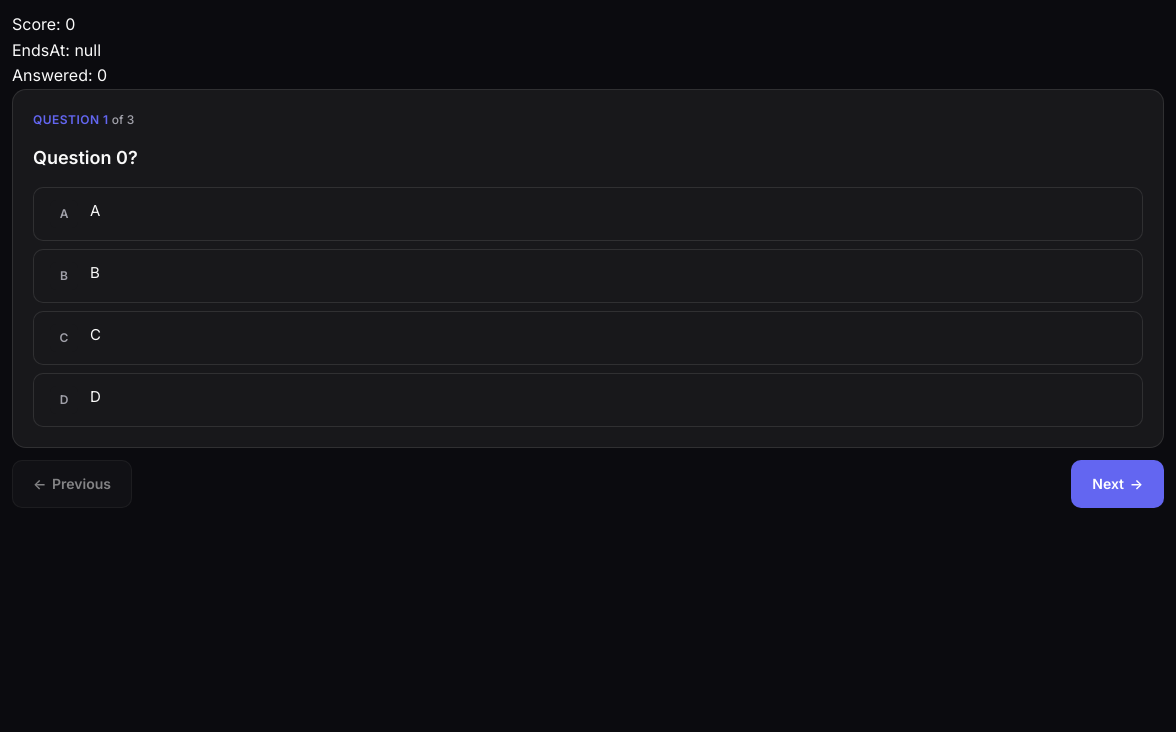
it: useQuiz › loads a paper and answers a question
Check: the element showing "A A B B C C D D" is shown, box [33,187,1143,427]
Click the radio button labelled "B B": (64, 276) [33,249,1143,303]
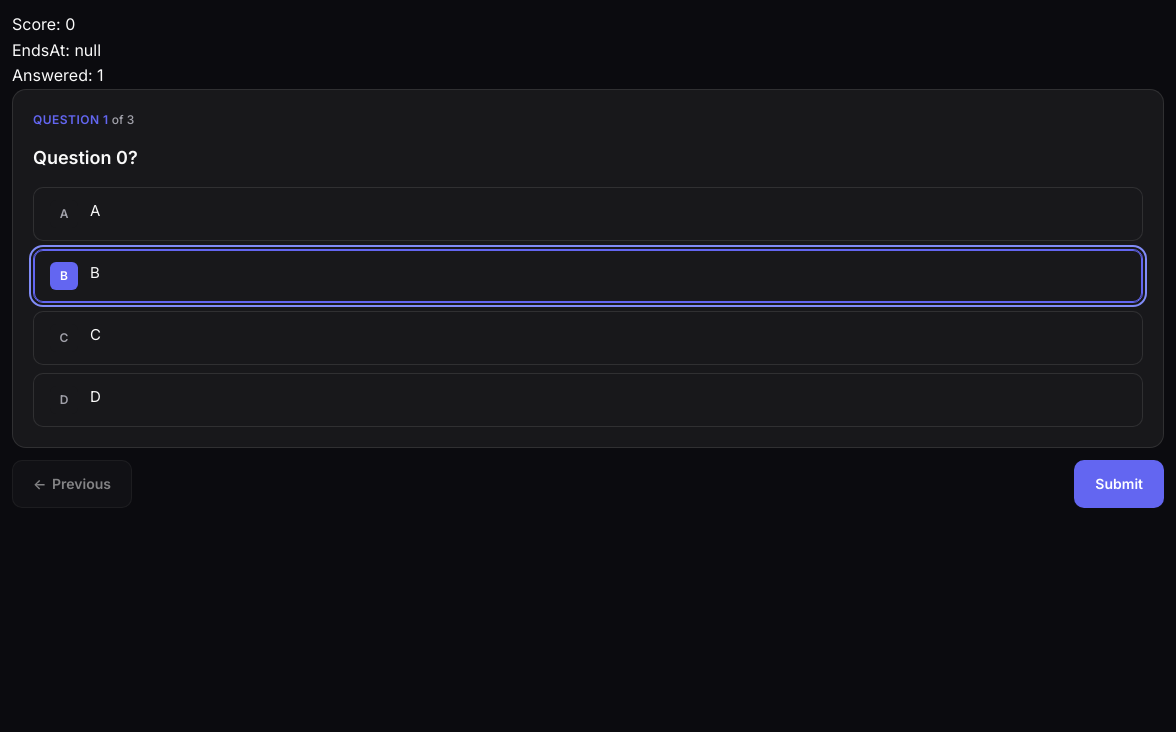
Check: the radio button labelled "B B" is checked, box [33,249,1143,303]
Check: the text "Answered: 1" is shown, box [12,65,104,85]
Click the button "Submit": (1119, 484) [1074,460,1164,508]
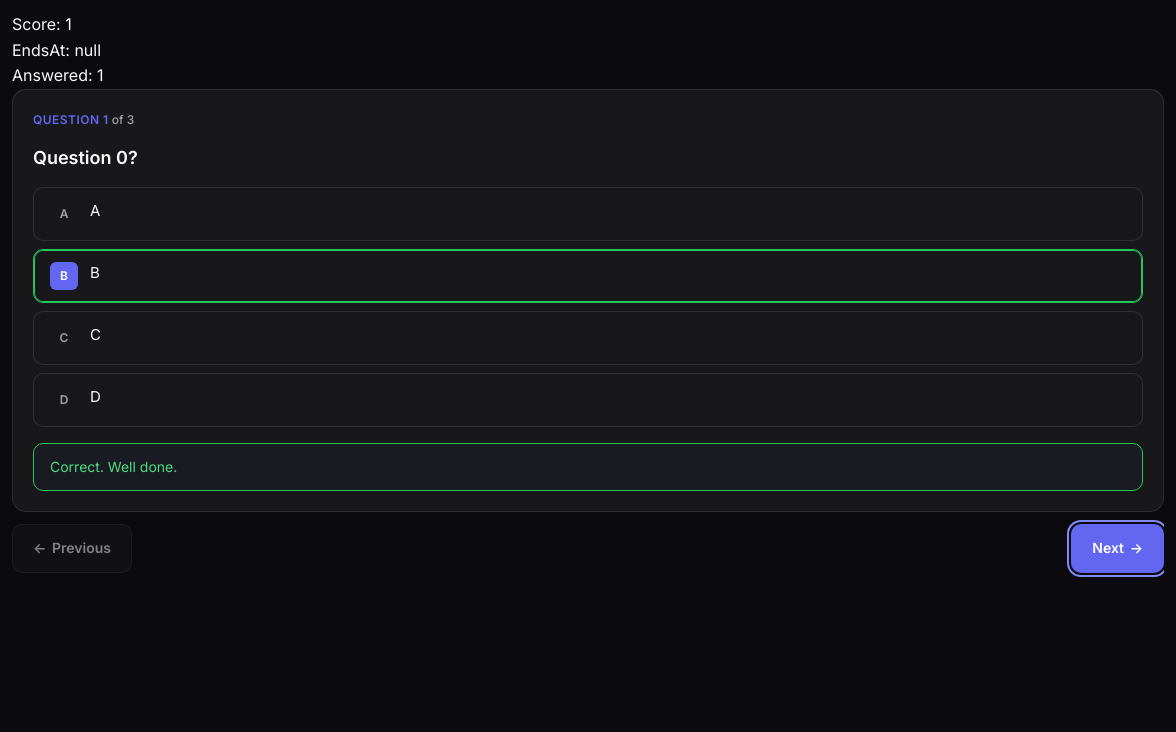
Check: the message shows "Correct", box [50,458,177,475]
Check: the text "Score: 1" is shown, box [12,14,72,34]
